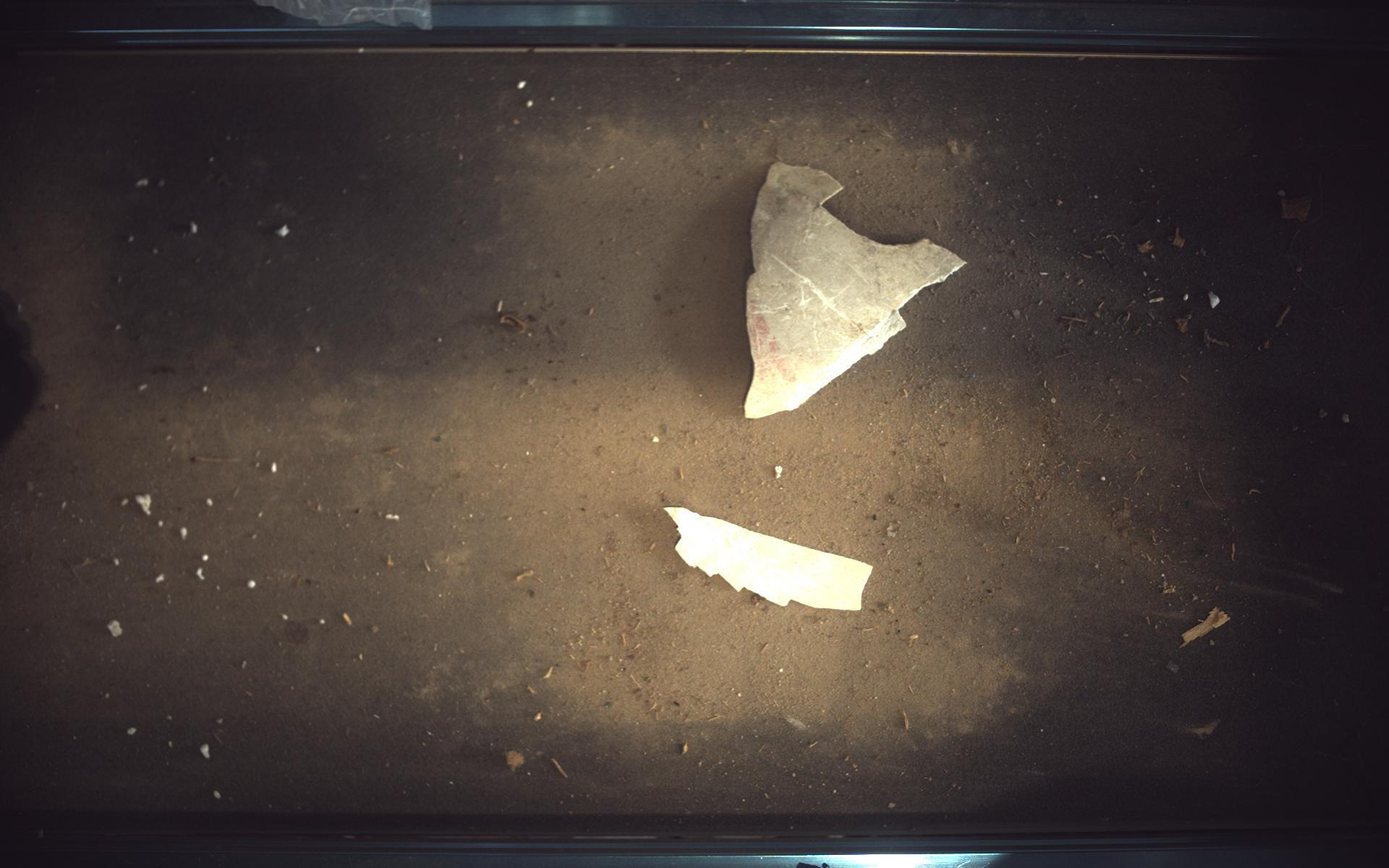plastic: (746, 161, 967, 418), (667, 509, 874, 612)
